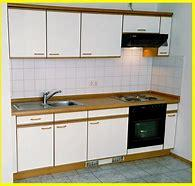cabinet_door: (8, 9, 45, 58), (81, 13, 121, 58), (17, 125, 54, 168), (46, 12, 80, 58), (87, 119, 127, 157), (56, 121, 88, 164), (122, 15, 160, 33), (159, 17, 170, 56), (166, 113, 176, 148), (18, 116, 54, 124)
handle: (39, 125, 53, 131), (56, 124, 69, 130), (33, 50, 45, 56), (167, 113, 177, 119), (89, 121, 101, 126), (82, 51, 93, 56), (136, 27, 147, 32), (159, 50, 168, 55), (30, 118, 41, 122), (49, 52, 60, 56)
